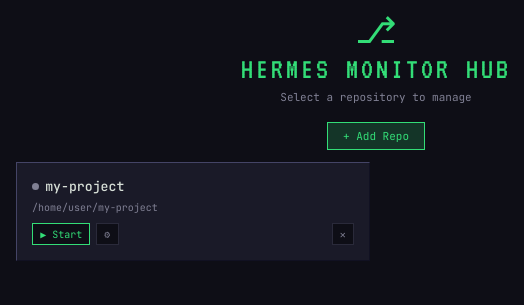
Test: HubLanding › shows error when toggle fails
The image size is (524, 305).
Click the button "▶ Start": (61, 234) top-left (32, 223), bottom-right (90, 245)
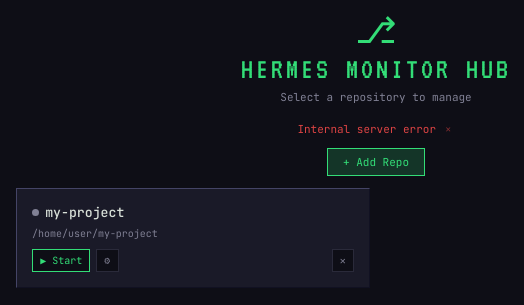
Check: the text "Internal server error" is shown, box top-left (297, 122), bottom-right (436, 136)
